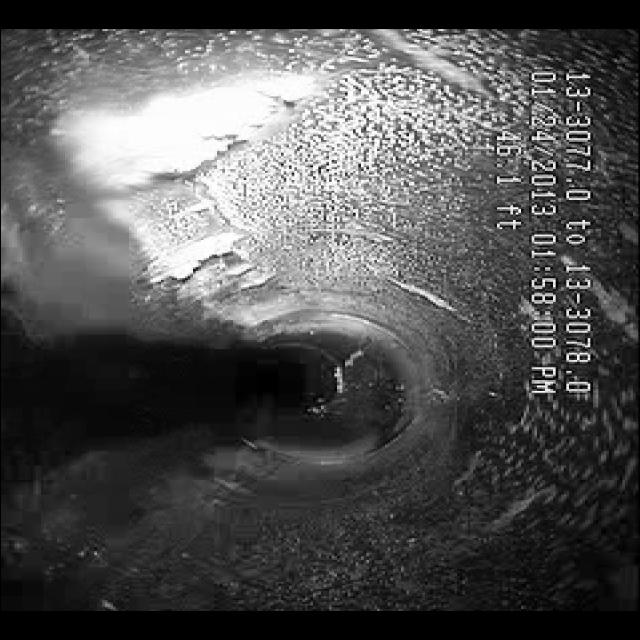Fracture: (75, 94, 302, 306)
